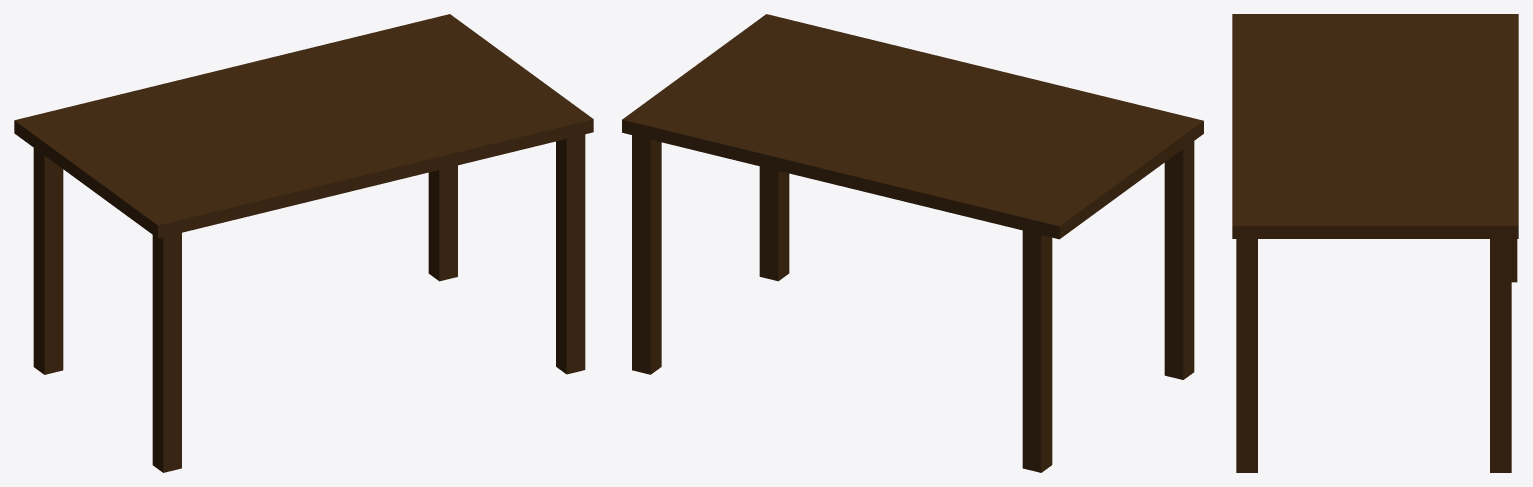
Rendered from table-modern.glb.
3 renders of one model, left to right at view 1: azimuth 30°, elevation 25°; view 2: azimuth 150°, elevation 25°; view 3: azimuth 270°, elevation 25°, orthographic.
Parts seen in each view (by area): view 1: Куб; view 2: Куб; view 3: Куб.
Part boxes in pixels (x1,y1,x2,y2): Куб: (14, 14, 593, 472); Куб: (622, 14, 1203, 472); Куб: (1232, 14, 1518, 472).
Bounding box in the file's own units: 1.4 × 0.77 × 0.8.
